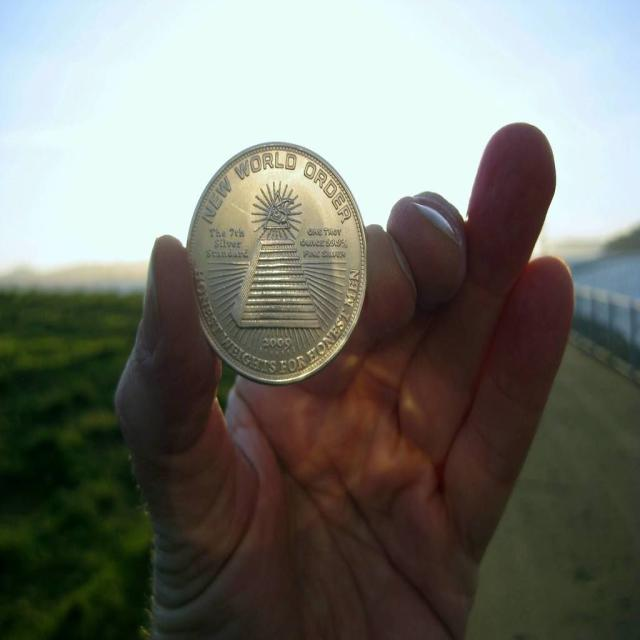Coin: (183, 140, 368, 386)
